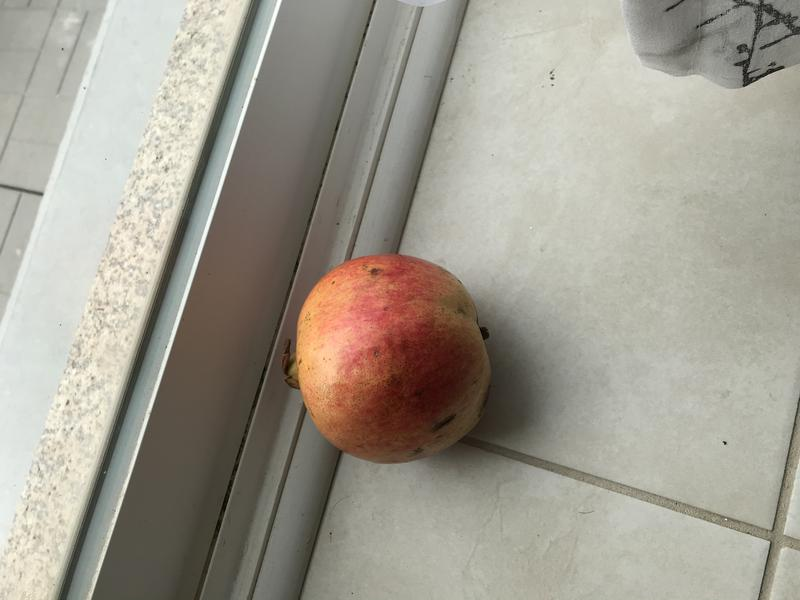pomegranate: (264, 253, 529, 481)
